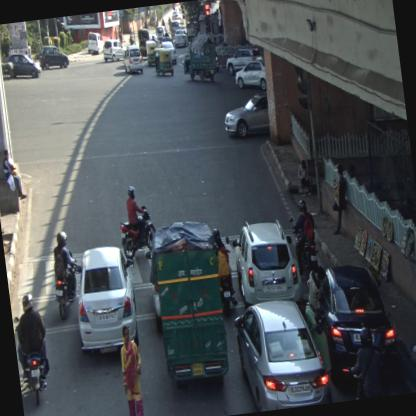car: (231, 293, 332, 412), (316, 260, 400, 379), (70, 242, 142, 364), (230, 216, 303, 306), (219, 92, 270, 142), (222, 44, 264, 74), (6, 50, 42, 82), (233, 59, 267, 92), (38, 42, 70, 70), (121, 43, 143, 74), (102, 37, 128, 62), (86, 29, 105, 57), (158, 38, 176, 64), (172, 27, 189, 50), (156, 26, 168, 40)
motorcycle: (10, 291, 54, 406), (115, 184, 159, 264), (47, 229, 84, 320), (287, 196, 323, 280), (211, 227, 239, 320), (408, 317, 415, 392)
truck: (150, 218, 232, 394), (136, 26, 152, 59)
